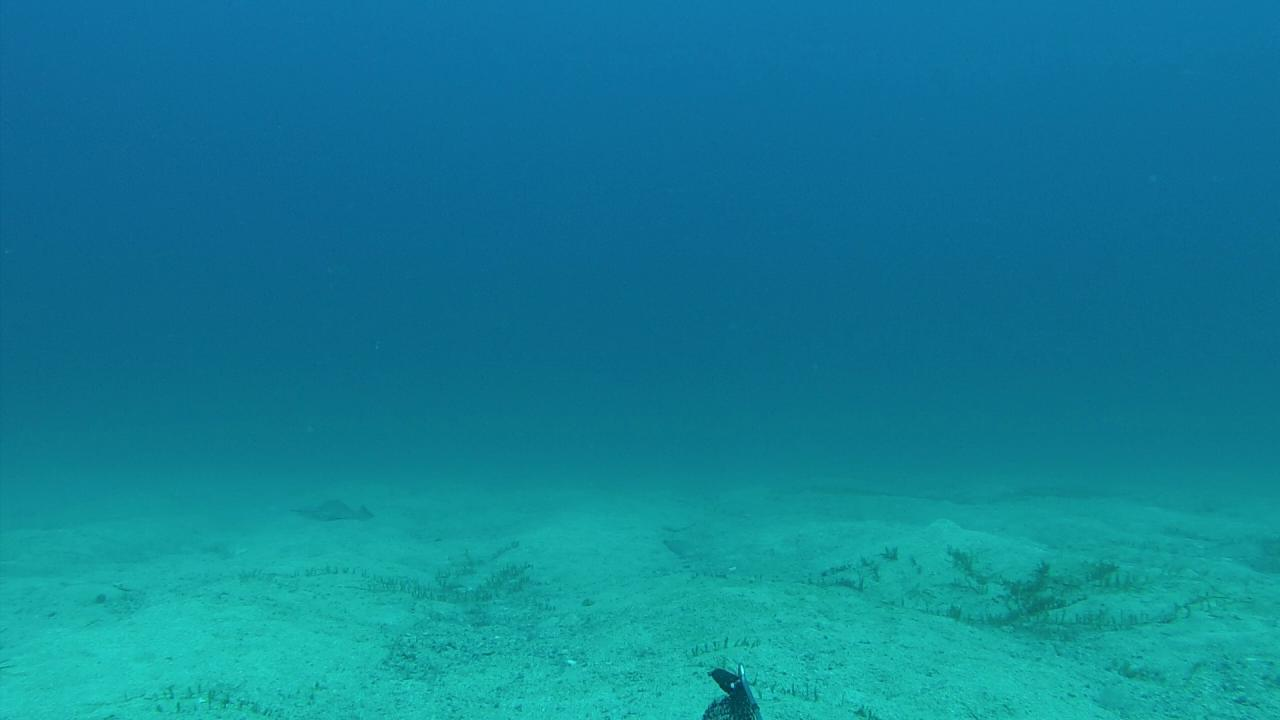dasyatis: (284, 498, 376, 520)
